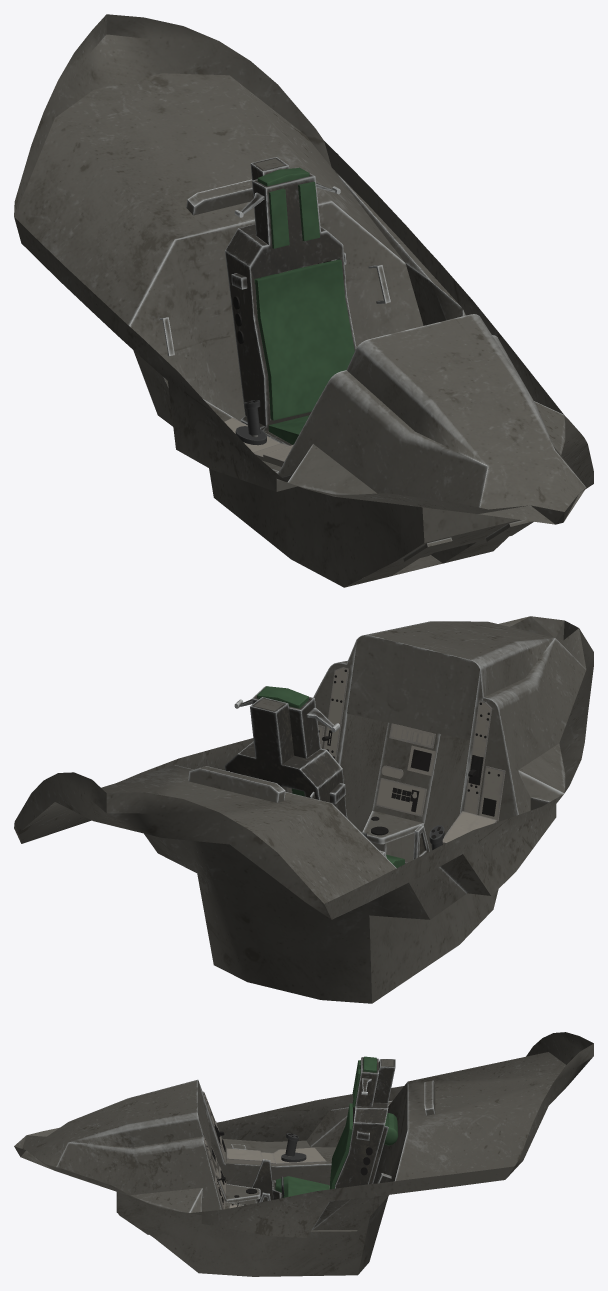
Rendered from F35Cockpit.fbx.
The picture shows the model from 3 angles, top to bottom: view 1: azimuth 30°, elevation 25°; view 2: azimuth 150°, elevation 25°; view 3: azimuth 270°, elevation 25°; orthographic projection. The views are drawn at different scales.
Parts seen in each view (by area): view 1: Cockpit; view 2: Cockpit; view 3: Cockpit.
Boxes of the visible parts, x1,y1,x2,y2 form: Cockpit: (14, 14, 593, 587); Cockpit: (14, 616, 593, 1003); Cockpit: (14, 1032, 593, 1276).
Bounding box in the file's own units: 131 × 130 × 330.
Materials: 1 (1 with a texture image).
